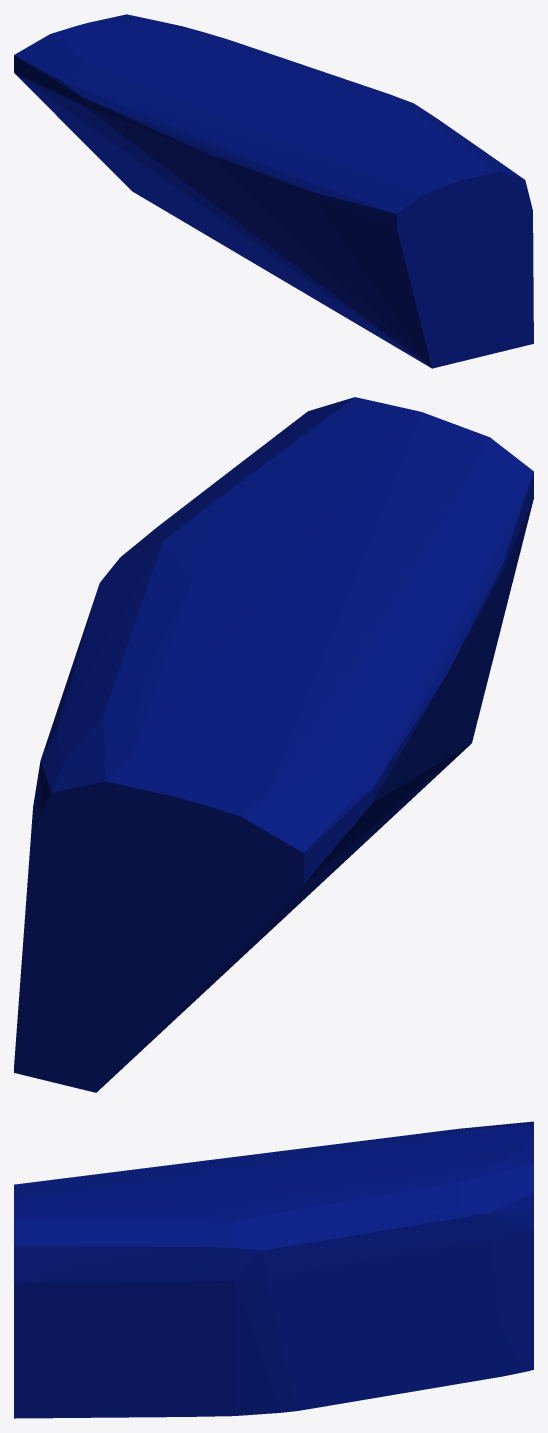
Rendered from right-shoulder-pitch-0_part_139.obj.
3 views of the same model, one above another, from view 1: azimuth 30°, elevation 25°; view 2: azimuth 150°, elevation 25°; view 3: azimuth 270°, elevation 25° (orthographic). The views are drawn at different scales.
Size of the model in its own units: 0.0115 by 0.00755 by 0.0194.
